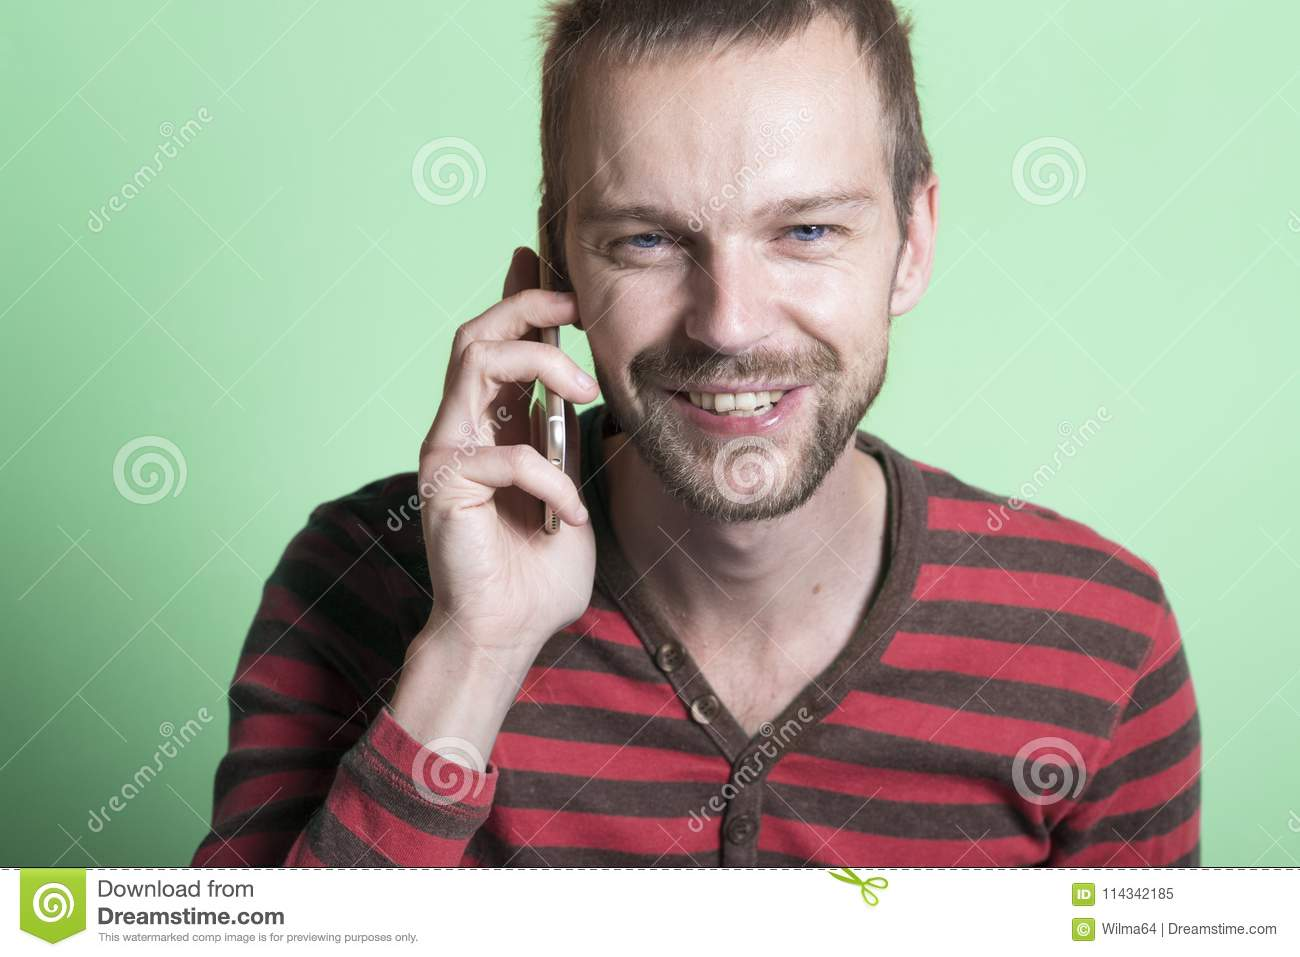phone: (503, 186, 568, 548)
talk: (408, 158, 866, 656)
